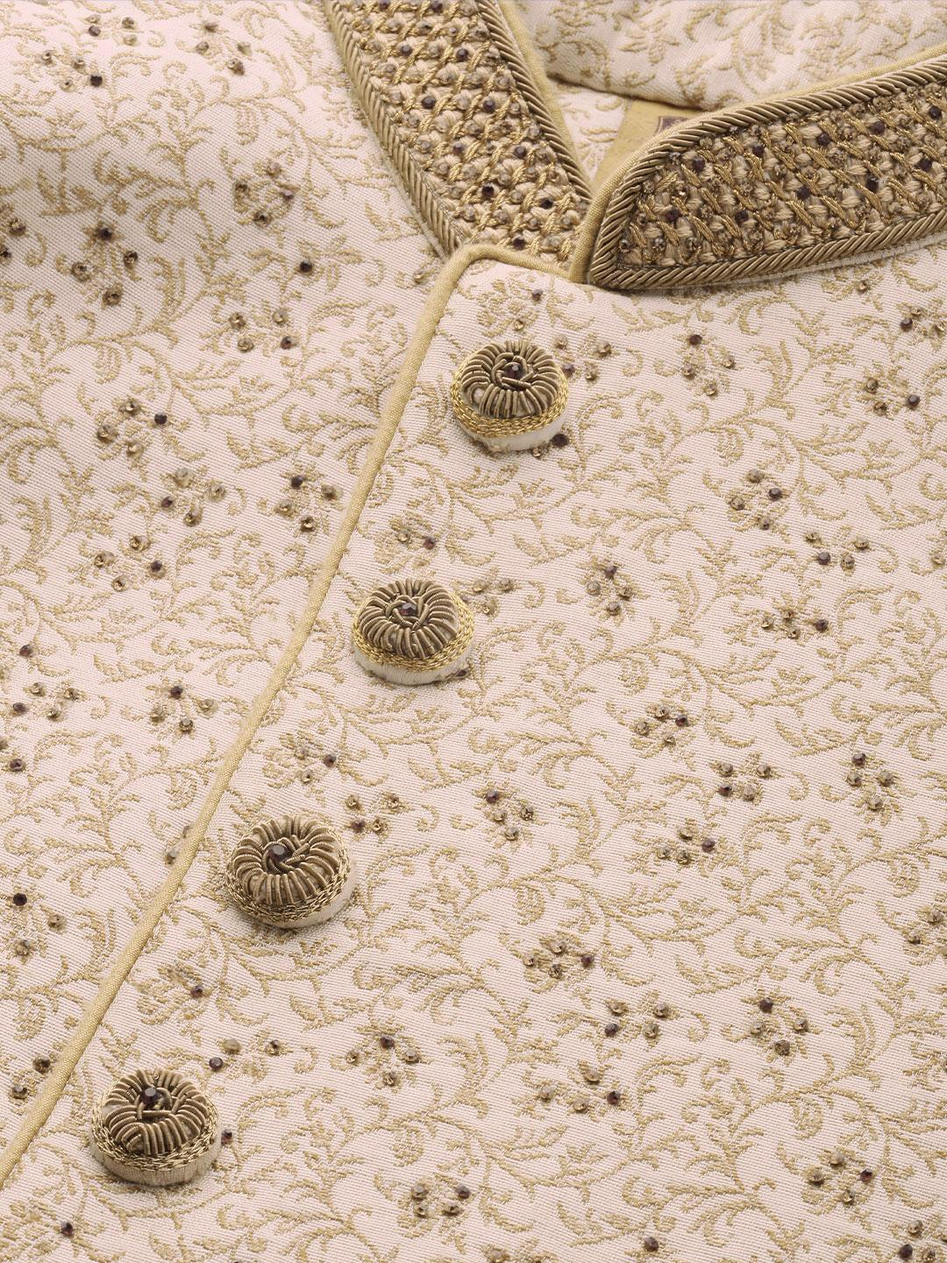Design Sherwani: (4, 3, 944, 1260)
